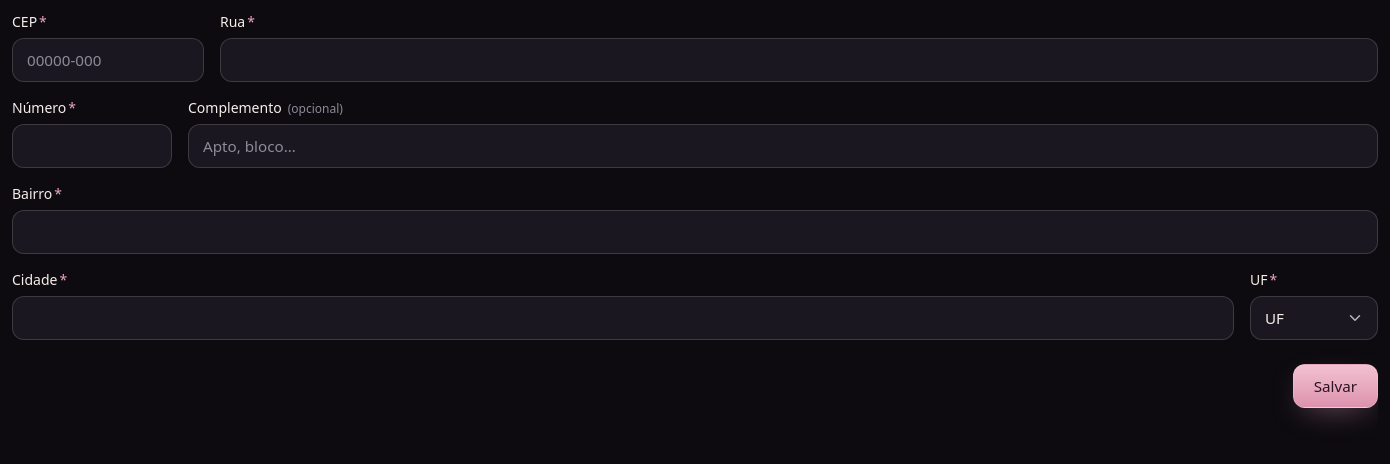
Test: AddressForm › preenche o endereço automaticamente pelo CEP (US09 RNF#02)
Later steps or results of the test are not shown.
Type "01310100" into the field labelled "CEP*" at (108, 60), box [12, 38, 204, 82]
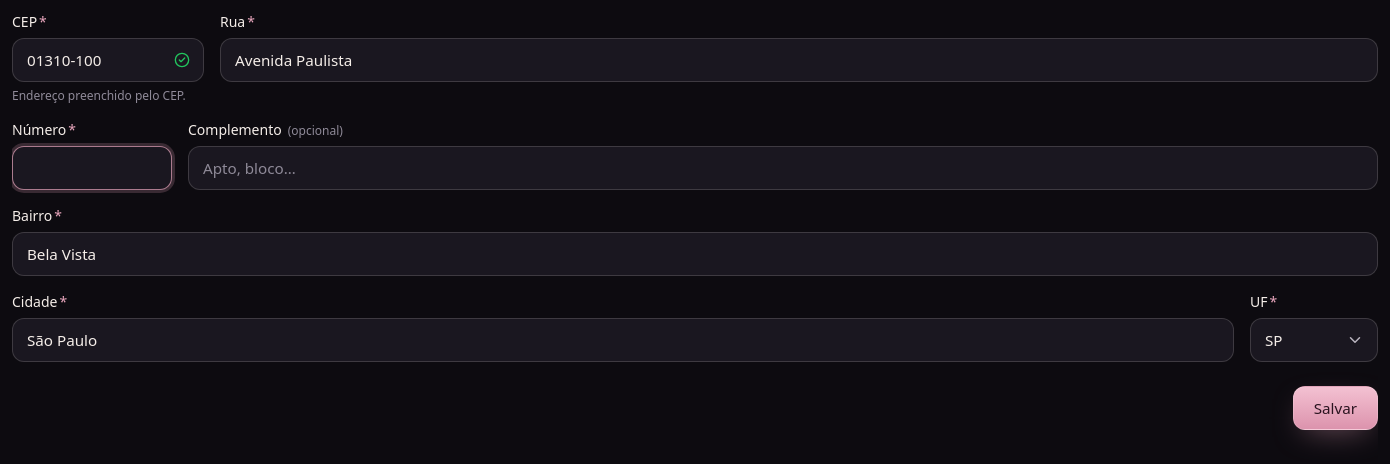
Check: the field labelled "CEP*" holds "01310-100", box [12, 38, 204, 82]
Check: the field labelled "Rua*" holds "Avenida Paulista", box [220, 38, 1378, 82]
Check: the field labelled "Bairro*" holds "Bela Vista", box [12, 232, 1378, 276]
